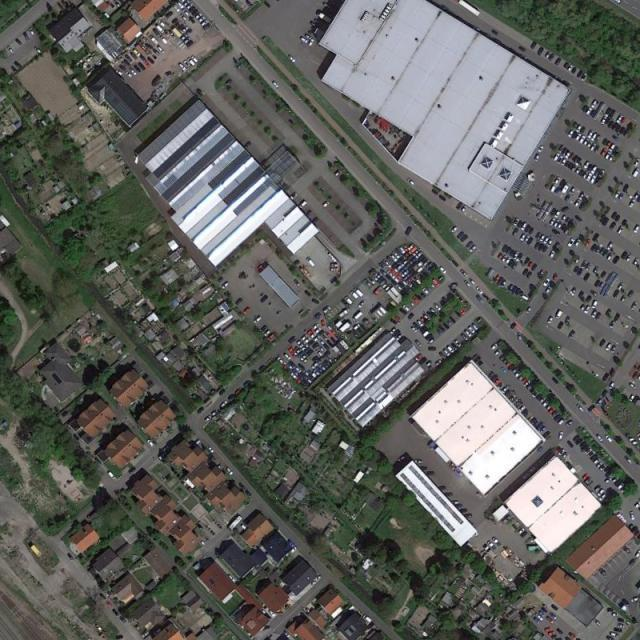vehicle: (454, 1, 482, 18), (561, 182, 571, 195), (354, 287, 365, 298), (352, 312, 364, 322), (149, 34, 159, 46), (406, 177, 417, 187), (344, 295, 354, 306), (538, 394, 548, 405), (576, 402, 586, 413), (374, 286, 384, 297), (155, 24, 166, 34), (491, 536, 502, 546), (487, 540, 497, 551), (566, 238, 576, 248), (534, 391, 544, 401), (507, 362, 517, 372), (186, 56, 196, 66), (122, 58, 132, 68), (306, 257, 316, 267), (298, 200, 308, 210), (476, 294, 485, 305), (108, 470, 117, 481), (456, 230, 466, 239), (497, 276, 506, 286), (322, 306, 332, 315), (350, 289, 359, 299), (425, 262, 435, 271), (431, 277, 440, 287), (531, 389, 541, 398), (604, 434, 614, 443), (545, 402, 555, 411), (592, 457, 602, 466), (548, 405, 558, 414), (551, 409, 561, 418), (532, 420, 541, 430), (535, 422, 544, 432), (555, 310, 564, 320), (628, 198, 637, 208), (146, 56, 155, 66), (132, 49, 142, 58), (592, 618, 602, 627), (598, 568, 608, 577), (220, 400, 230, 409), (260, 295, 270, 304), (259, 325, 269, 334), (141, 630, 151, 639), (234, 298, 244, 307), (363, 614, 373, 623), (578, 191, 586, 202), (523, 223, 531, 234), (22, 31, 30, 42), (226, 466, 234, 477), (460, 234, 469, 243), (389, 326, 398, 335), (446, 345, 455, 354), (476, 286, 485, 295), (341, 298, 350, 307), (401, 259, 410, 268), (417, 274, 426, 283), (429, 265, 438, 274), (439, 266, 448, 275), (418, 290, 427, 299), (391, 275, 400, 284), (383, 259, 392, 268), (395, 248, 404, 257), (409, 246, 418, 255), (422, 259, 431, 268), (522, 379, 531, 388), (521, 375, 530, 384), (505, 359, 514, 368), (502, 356, 511, 365), (499, 353, 508, 362), (542, 399, 551, 408), (603, 465, 612, 474), (486, 371, 495, 380), (529, 417, 538, 426), (560, 451, 569, 460), (554, 413, 563, 422), (538, 426, 547, 435), (542, 431, 551, 440), (581, 473, 590, 482), (598, 493, 607, 502), (490, 342, 499, 351), (588, 404, 597, 413), (551, 377, 560, 386), (124, 54, 133, 63), (152, 48, 161, 57), (178, 62, 187, 71), (550, 603, 559, 612), (321, 361, 330, 370), (289, 193, 298, 202), (271, 81, 280, 90), (288, 54, 297, 63), (146, 439, 155, 448), (153, 628, 162, 637), (242, 307, 251, 316), (616, 114, 624, 124), (600, 116, 608, 126), (556, 155, 564, 165), (460, 268, 468, 278), (586, 162, 594, 172), (590, 99, 598, 109), (598, 169, 606, 179), (470, 244, 478, 254), (466, 240, 474, 250), (494, 274, 502, 284), (501, 278, 509, 288), (527, 226, 535, 236), (574, 238, 582, 248), (520, 222, 528, 232), (451, 342, 459, 352), (358, 299, 366, 309), (422, 286, 430, 296), (558, 448, 566, 458), (580, 260, 588, 270), (630, 301, 638, 311), (582, 272, 590, 282), (543, 278, 551, 288), (605, 342, 613, 352), (591, 300, 599, 310), (632, 168, 640, 178), (160, 35, 168, 45), (153, 28, 161, 38), (134, 64, 142, 74), (326, 339, 334, 349), (535, 614, 545, 622), (405, 226, 413, 236), (294, 279, 302, 289), (119, 615, 127, 625), (605, 150, 612, 161), (607, 120, 615, 129), (561, 147, 569, 156), (590, 166, 598, 175), (574, 166, 582, 175), (567, 161, 575, 170), (548, 53, 556, 62), (490, 29, 499, 37), (590, 133, 598, 142), (450, 226, 459, 234), (438, 194, 447, 202), (546, 238, 554, 247), (496, 252, 504, 261), (550, 208, 558, 217), (574, 215, 583, 223), (538, 243, 546, 252), (534, 242, 542, 251), (512, 228, 520, 237), (512, 218, 520, 227), (452, 259, 460, 268), (443, 348, 451, 357), (438, 352, 447, 360), (402, 304, 411, 312), (419, 357, 427, 366), (414, 339, 422, 348), (454, 339, 462, 348), (434, 303, 442, 312), (430, 307, 438, 316), (461, 333, 469, 342), (471, 322, 479, 331), (464, 330, 473, 338), (303, 346, 312, 354), (294, 348, 302, 357), (324, 330, 332, 339), (311, 342, 320, 350), (289, 336, 298, 344), (290, 346, 299, 354), (304, 336, 312, 345), (458, 307, 466, 316), (394, 265, 403, 273), (398, 281, 406, 290), (391, 261, 400, 269), (406, 265, 415, 273), (404, 262, 413, 270), (394, 273, 403, 281), (389, 266, 397, 275), (422, 269, 431, 277), (418, 265, 426, 274), (407, 299, 415, 308), (379, 278, 387, 287), (367, 276, 375, 285), (414, 293, 423, 301), (387, 256, 395, 265), (412, 249, 420, 258), (415, 251, 423, 260), (418, 254, 426, 263), (402, 251, 411, 259), (518, 373, 526, 382), (529, 386, 538, 394), (526, 382, 534, 391), (514, 370, 523, 378), (511, 366, 520, 374), (626, 456, 634, 465), (617, 482, 626, 490), (587, 450, 596, 458), (598, 464, 607, 472), (595, 461, 604, 469), (629, 558, 637, 567), (501, 386, 510, 394), (492, 378, 501, 386), (566, 440, 574, 449), (565, 420, 574, 428), (522, 473, 530, 482), (584, 262, 592, 271), (620, 251, 628, 260), (612, 255, 620, 264), (610, 211, 618, 220), (602, 217, 610, 226), (592, 233, 600, 242), (594, 279, 602, 288), (610, 345, 618, 354), (570, 287, 578, 296), (590, 310, 598, 319), (589, 289, 598, 297), (629, 382, 638, 390), (622, 183, 630, 192), (299, 354, 308, 362), (302, 356, 311, 364), (330, 337, 338, 346), (14, 60, 22, 69), (10, 66, 19, 74), (113, 1, 122, 9), (145, 42, 154, 50), (183, 37, 192, 45), (185, 40, 194, 48), (180, 13, 188, 22), (177, 1, 185, 10), (188, 6, 197, 14), (130, 68, 138, 77), (198, 15, 206, 24), (201, 18, 209, 27), (227, 574, 236, 582), (283, 353, 292, 361), (234, 388, 243, 396), (517, 527, 526, 535), (311, 362, 320, 370), (313, 369, 321, 378), (316, 366, 324, 375), (318, 364, 327, 372), (520, 530, 529, 538), (547, 616, 555, 625), (569, 631, 577, 640), (622, 598, 630, 607), (225, 78, 234, 86), (243, 142, 252, 150), (299, 36, 308, 44), (202, 23, 211, 31), (218, 388, 227, 396), (162, 446, 171, 454), (211, 409, 219, 418), (204, 415, 213, 423), (312, 298, 321, 306), (267, 334, 276, 342), (67, 553, 75, 562), (112, 608, 120, 617), (254, 316, 263, 324), (221, 282, 230, 290), (582, 170, 589, 180), (583, 160, 590, 170), (590, 175, 597, 185), (586, 172, 593, 182), (595, 134, 602, 144), (538, 46, 545, 56), (559, 179, 566, 189), (430, 189, 440, 196), (531, 262, 538, 272), (502, 254, 509, 264), (550, 183, 557, 193), (606, 252, 613, 262), (599, 246, 606, 256), (633, 224, 640, 234), (28, 27, 35, 37), (611, 122, 619, 130), (612, 134, 620, 142), (530, 42, 538, 50), (518, 45, 526, 53), (510, 322, 518, 330), (410, 326, 418, 334), (415, 354, 423, 362), (395, 334, 403, 342), (390, 318, 398, 326), (399, 307, 407, 315), (442, 322, 450, 330), (426, 310, 434, 318), (423, 314, 431, 322), (454, 310, 462, 318), (438, 325, 446, 333), (435, 327, 443, 335), (417, 319, 425, 327), (413, 322, 421, 330), (468, 326, 476, 334), (357, 328, 365, 336), (301, 334, 309, 342), (314, 326, 322, 334), (312, 323, 320, 331), (314, 312, 322, 320), (425, 333, 433, 341), (401, 279, 409, 287), (406, 276, 414, 284), (404, 273, 412, 281), (401, 270, 409, 278), (398, 267, 406, 275), (412, 270, 420, 278), (410, 267, 418, 275), (398, 256, 406, 264), (386, 270, 394, 278), (406, 284, 414, 292), (414, 278, 422, 286), (420, 271, 428, 279), (468, 278, 476, 286), (374, 274, 382, 282), (380, 269, 388, 277), (385, 284, 393, 292), (382, 282, 390, 290), (377, 276, 385, 284), (364, 279, 372, 287), (411, 296, 419, 304), (390, 254, 398, 262), (393, 251, 401, 259), (408, 243, 416, 251), (407, 254, 415, 262), (614, 479, 622, 487), (630, 526, 638, 534), (623, 546, 631, 554), (590, 454, 598, 462), (518, 406, 526, 414), (496, 382, 504, 390), (490, 374, 498, 382), (528, 466, 536, 474), (584, 477, 592, 485), (594, 486, 602, 494), (597, 490, 605, 498), (573, 434, 581, 442), (575, 437, 583, 445), (594, 246, 602, 254), (590, 244, 598, 252), (614, 214, 622, 222), (609, 222, 617, 230), (545, 286, 553, 294), (602, 374, 610, 382), (525, 306, 533, 314), (494, 349, 502, 357), (585, 295, 593, 303), (14, 38, 22, 46), (34, 46, 42, 54), (6, 46, 14, 54), (178, 23, 186, 31), (166, 10, 174, 18), (157, 46, 165, 54), (139, 54, 147, 62), (181, 26, 189, 34), (185, 28, 193, 36), (180, 34, 188, 42), (183, 60, 191, 68), (191, 55, 199, 63), (182, 9, 190, 17), (186, 2, 194, 10), (130, 52, 138, 60), (138, 62, 146, 70), (125, 71, 133, 79), (191, 8, 199, 16), (194, 12, 202, 20), (207, 446, 215, 454), (238, 482, 246, 490), (290, 546, 298, 554), (258, 365, 266, 373), (286, 362, 294, 370), (294, 366, 302, 374), (298, 363, 306, 371), (315, 349, 323, 357), (323, 343, 331, 351), (541, 606, 549, 614), (550, 612, 558, 620), (556, 628, 564, 636), (322, 201, 330, 209), (334, 170, 342, 178), (263, 1, 271, 9), (197, 406, 205, 414), (304, 290, 312, 298), (263, 330, 271, 338), (98, 592, 106, 600), (553, 153, 560, 162), (609, 109, 616, 118), (606, 107, 613, 116), (619, 126, 626, 135), (594, 168, 601, 177), (578, 169, 585, 178), (571, 163, 578, 172), (572, 154, 579, 163), (602, 137, 609, 146), (581, 73, 588, 82), (563, 61, 570, 70), (579, 135, 586, 144), (590, 143, 597, 152), (587, 130, 594, 139), (506, 246, 513, 255), (502, 244, 509, 253), (456, 202, 463, 211), (524, 257, 531, 266), (527, 261, 534, 270), (522, 268, 529, 277), (508, 259, 515, 268), (508, 283, 515, 292), (511, 285, 518, 294), (543, 236, 550, 245), (560, 223, 567, 232), (557, 221, 564, 230), (574, 199, 581, 208), (542, 245, 549, 254), (527, 237, 534, 246), (449, 316, 456, 325), (317, 330, 326, 337), (297, 351, 306, 358), (298, 342, 307, 349), (464, 279, 471, 288), (399, 246, 406, 255), (515, 288, 522, 297), (605, 471, 614, 478), (602, 249, 609, 258), (599, 270, 606, 279), (620, 294, 627, 303), (618, 226, 625, 235), (607, 242, 614, 251), (547, 316, 554, 325), (596, 398, 603, 407), (576, 268, 583, 277), (569, 330, 576, 339), (600, 339, 607, 348), (578, 290, 585, 299), (583, 306, 590, 315), (595, 312, 602, 321), (609, 321, 616, 330), (632, 371, 639, 380), (614, 190, 621, 199), (618, 192, 625, 201), (174, 4, 181, 13), (318, 344, 325, 353), (610, 143, 616, 153), (514, 250, 520, 260), (558, 431, 564, 441), (610, 632, 620, 638), (623, 129, 630, 137), (558, 146, 565, 154), (565, 151, 572, 159), (615, 125, 622, 133), (561, 158, 568, 166), (568, 153, 575, 161), (564, 159, 571, 167), (606, 141, 613, 149), (577, 70, 584, 78), (567, 64, 574, 72), (555, 58, 562, 66), (586, 107, 593, 115), (571, 131, 578, 139), (575, 133, 582, 141), (583, 138, 590, 146), (586, 141, 593, 149), (554, 176, 561, 184), (539, 234, 546, 242), (462, 205, 469, 213), (526, 271, 533, 279), (554, 211, 561, 219), (567, 219, 574, 227), (519, 234, 526, 242), (407, 313, 414, 321), (313, 335, 321, 342), (302, 344, 310, 351), (318, 338, 325, 346), (296, 338, 303, 346), (310, 332, 318, 339), (430, 337, 437, 345), (415, 262, 422, 270), (400, 290, 408, 297), (403, 287, 411, 294), (410, 282, 417, 290), (396, 283, 403, 291), (410, 258, 418, 265), (420, 258, 428, 265), (633, 530, 640, 538), (628, 523, 635, 531), (604, 478, 612, 485), (582, 444, 590, 451), (617, 282, 624, 290), (613, 290, 620, 298), (602, 390, 609, 398), (557, 322, 564, 330), (573, 266, 580, 274), (144, 61, 151, 69), (183, 1, 191, 8), (115, 69, 123, 76), (245, 490, 252, 498), (277, 357, 284, 365), (243, 380, 251, 387), (290, 361, 297, 369), (292, 369, 299, 377), (302, 370, 310, 377), (311, 355, 319, 362), (534, 618, 542, 625), (539, 610, 546, 618), (305, 34, 313, 41), (246, 1, 254, 8), (129, 466, 136, 474), (458, 509, 469, 514), (605, 117, 611, 126), (576, 125, 582, 134), (594, 145, 600, 154), (601, 148, 607, 157), (510, 249, 516, 258), (517, 253, 523, 262), (536, 232, 542, 241), (564, 226, 570, 235), (549, 218, 555, 227), (561, 207, 570, 213), (570, 186, 576, 195), (565, 216, 571, 225), (550, 250, 556, 259), (524, 234, 530, 243), (517, 220, 523, 229), (403, 244, 409, 253), (597, 434, 603, 443), (634, 500, 640, 509), (593, 265, 599, 274), (565, 315, 571, 324), (634, 190, 640, 199), (634, 158, 640, 167), (115, 634, 124, 640), (414, 460, 424, 465), (424, 471, 434, 476), (437, 486, 447, 491), (606, 635, 616, 640), (613, 628, 623, 633), (435, 359, 442, 366), (362, 325, 369, 332), (307, 329, 314, 336), (354, 324, 361, 331), (411, 280, 418, 287), (414, 260, 421, 267), (612, 476, 619, 483), (586, 447, 593, 454), (580, 441, 587, 448), (119, 64, 126, 71), (305, 378, 312, 385), (534, 154, 540, 162), (571, 66, 577, 74), (545, 51, 551, 59), (580, 126, 586, 134), (568, 130, 574, 138), (609, 154, 615, 162), (512, 262, 518, 270), (505, 257, 511, 265), (554, 220, 560, 228), (564, 194, 570, 202), (562, 214, 568, 222), (288, 346, 294, 354), (322, 334, 328, 342), (306, 350, 314, 356), (628, 290, 634, 298), (634, 258, 640, 266), (609, 382, 615, 390), (614, 314, 620, 322), (629, 395, 635, 403), (290, 373, 298, 379), (538, 145, 544, 153), (517, 332, 522, 341), (635, 550, 640, 559), (630, 511, 635, 520), (117, 1, 126, 6), (444, 493, 453, 498), (547, 632, 556, 637), (631, 598, 640, 603), (418, 467, 429, 471), (307, 340, 314, 346), (171, 18, 178, 24), (612, 1, 622, 5), (428, 346, 436, 351), (626, 254, 631, 262), (550, 635, 558, 640), (545, 628, 553, 633), (618, 624, 626, 629), (554, 272, 558, 281), (451, 502, 460, 506), (454, 505, 463, 509), (464, 514, 473, 518), (268, 610, 274, 616), (321, 320, 326, 327), (618, 618, 625, 623), (310, 581, 317, 586), (636, 194, 640, 202), (611, 613, 619, 617), (607, 608, 615, 612), (636, 534, 640, 540), (316, 576, 322, 580), (181, 1, 186, 5), (554, 638, 563, 640), (575, 638, 582, 640), (255, 1, 260, 2)
